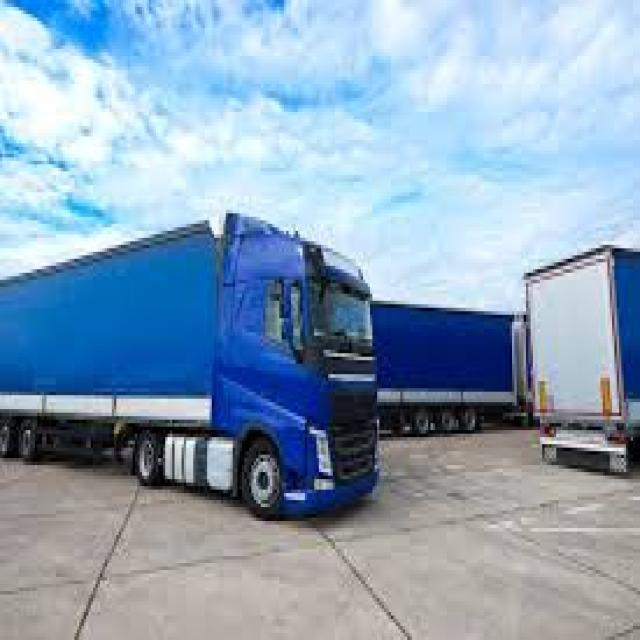covered: (0, 206, 382, 518)
